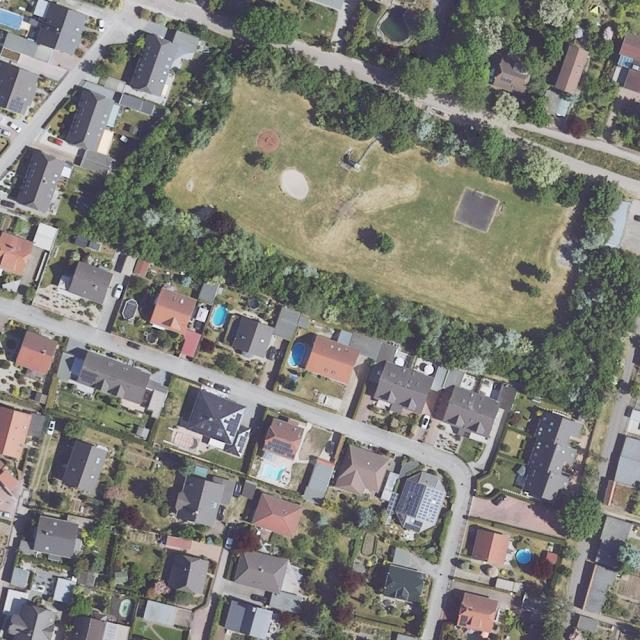PV: (396, 480, 425, 516), (417, 487, 444, 525), (261, 437, 295, 460), (223, 413, 242, 438), (80, 368, 98, 383), (617, 54, 634, 69), (9, 97, 24, 114)
